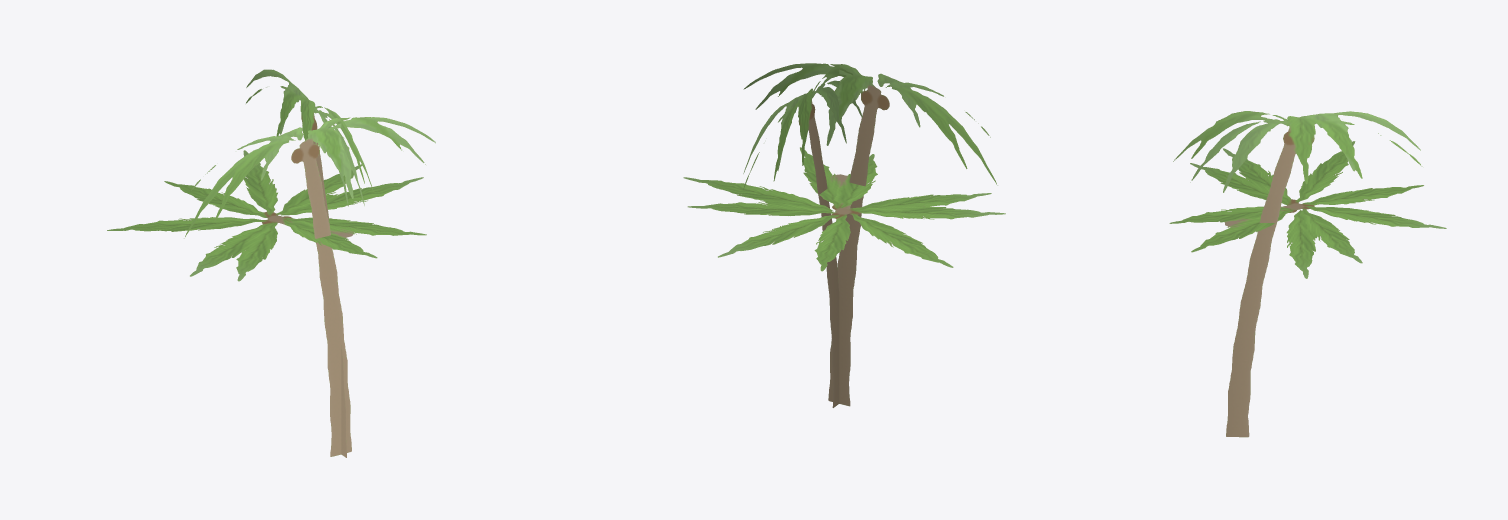
Rendered from palm_1_far.glb.
The picture shows the model from 3 angles, left to right: view 1: azimuth 30°, elevation 25°; view 2: azimuth 150°, elevation 25°; view 3: azimuth 270°, elevation 25°; orthographic projection. The views are drawn at different scales.
Parts seen in each view (by area): view 1: palm_1_far; view 2: palm_1_far; view 3: palm_1_far.
Boxes of the visible parts, x1,y1,x2,y2 form: palm_1_far: (107, 69, 435, 457); palm_1_far: (683, 63, 1005, 407); palm_1_far: (1169, 111, 1446, 437).
Size of the model in its own units: 7.59 by 7.59 by 7.59.
1 material, 1 textured.
